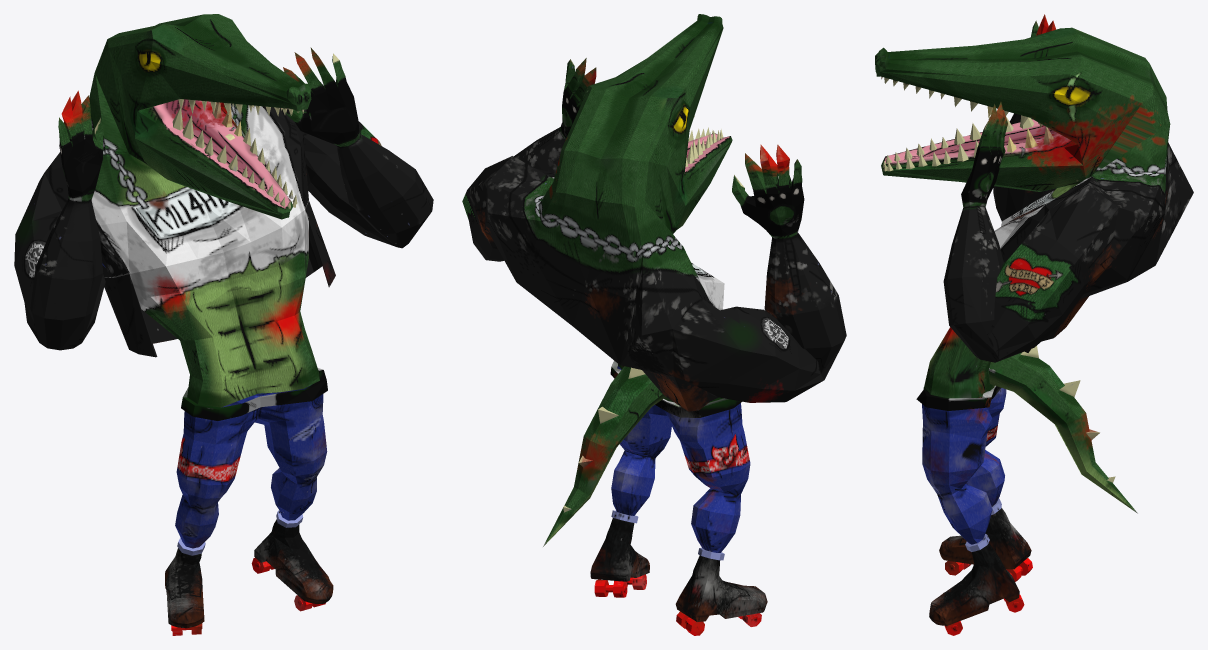
The model's file is cocodrilaBonesSelect_000008.obj.
3 views of the same model, side by side, from view 1: azimuth 30°, elevation 25°; view 2: azimuth 150°, elevation 25°; view 3: azimuth 270°, elevation 25° (orthographic).
Parts seen in each view (by area): view 1: Crocodile.002_Cylinder.002; view 2: Crocodile.002_Cylinder.002; view 3: Crocodile.002_Cylinder.002.
Part boxes in pixels (left/top/right/bottom): Crocodile.002_Cylinder.002: left=14, top=14, right=433, bottom=635; Crocodile.002_Cylinder.002: left=462, top=14, right=846, bottom=635; Crocodile.002_Cylinder.002: left=875, top=14, right=1193, bottom=635.
Bounding box in the file's own units: 4.6 × 6.54 × 3.4.
